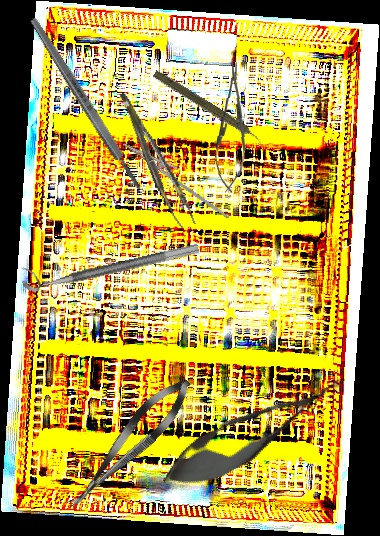Fixation Ring: (19, 228, 200, 295)
Handpiece: (149, 67, 269, 151)
Micro Scissor: (152, 359, 354, 505), (57, 369, 201, 519)
Needle Holder: (114, 133, 242, 220), (213, 60, 251, 194)
Scalpel Handle: (27, 14, 145, 193)
Tissue Forceps: (119, 85, 196, 233)
